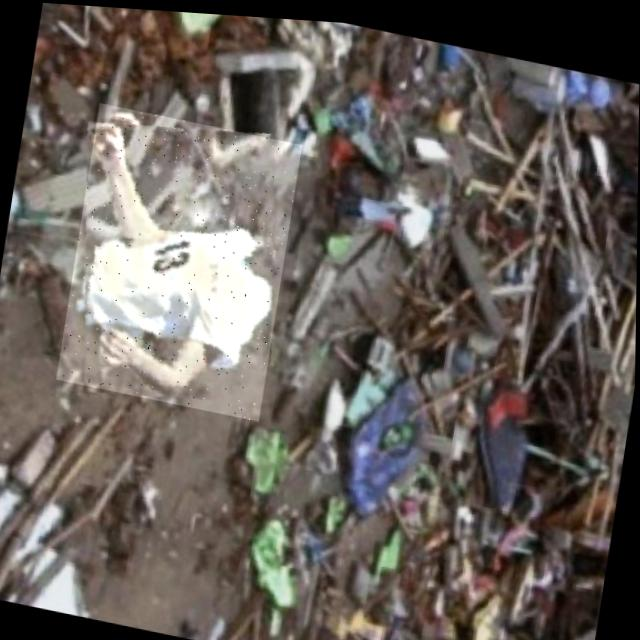Person in Rubble: (56, 99, 302, 420)
